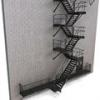stairs: (54, 57, 78, 88), (64, 34, 81, 54), (64, 13, 79, 26)
